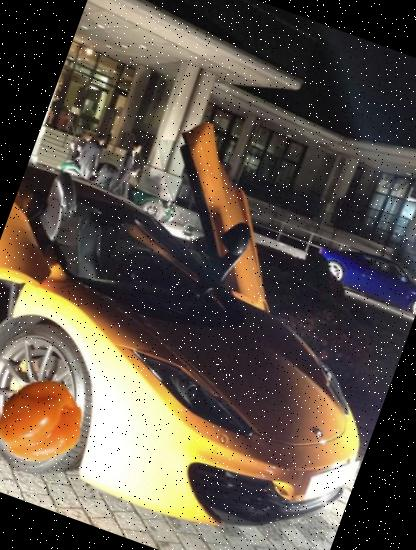Pepper: (0, 366, 97, 479)
